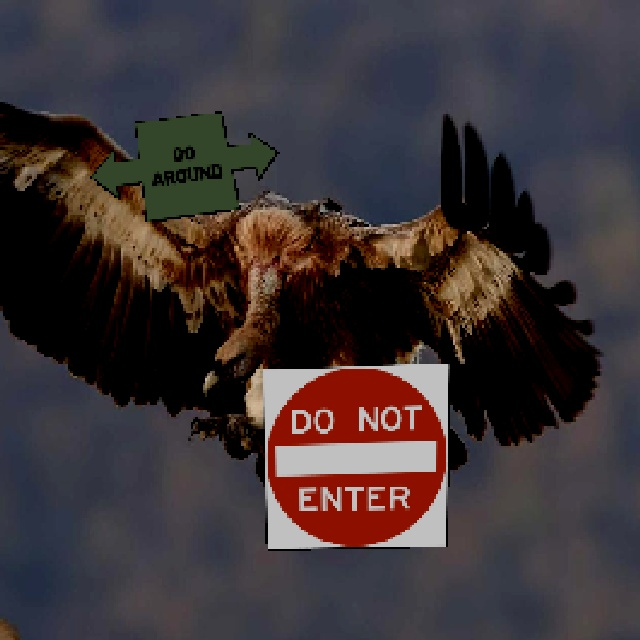DO_NOT_ENTER: (260, 360, 449, 549)
GO_AROUND: (88, 109, 277, 221)
